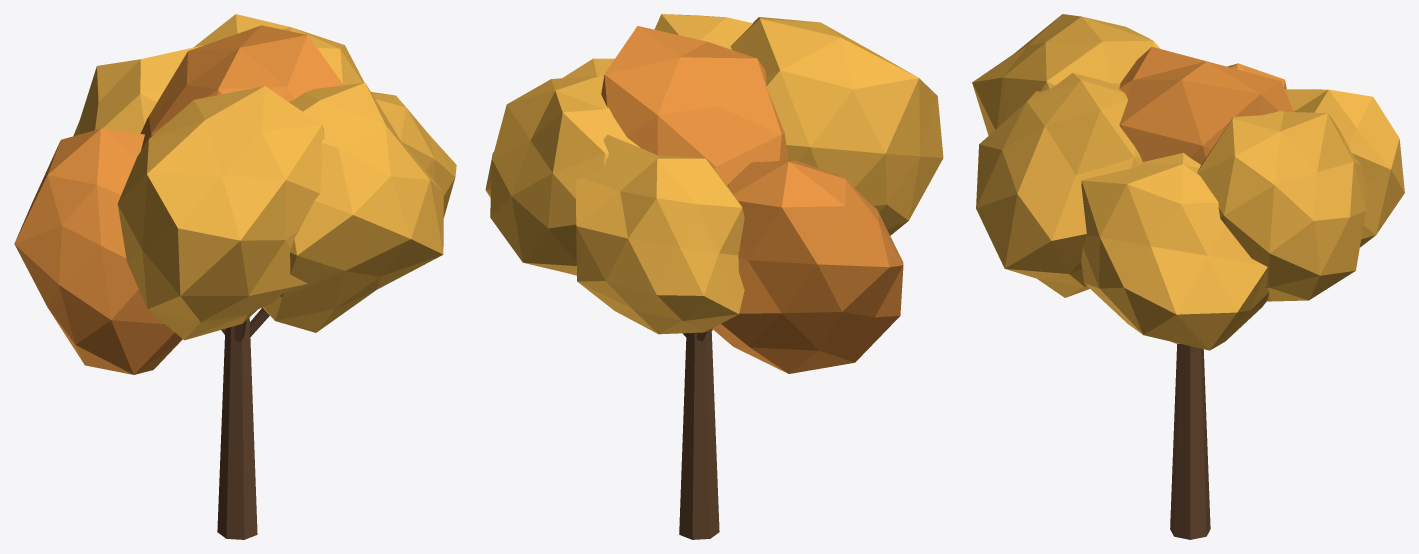
File: maple-gold.glb
3 views of the same model, side by side, from view 1: azimuth 30°, elevation 25°; view 2: azimuth 150°, elevation 25°; view 3: azimuth 270°, elevation 25° (orthographic).
Visible parts, largest first — view 1: tree; view 2: tree; view 3: tree.
Boxes of the visible parts, <box> form: tree: <box>14,14,456,539</box>; tree: <box>485,14,943,539</box>; tree: <box>972,14,1404,539</box>.
Bounding box in the file's own units: 8.35 × 9.23 × 7.49.
